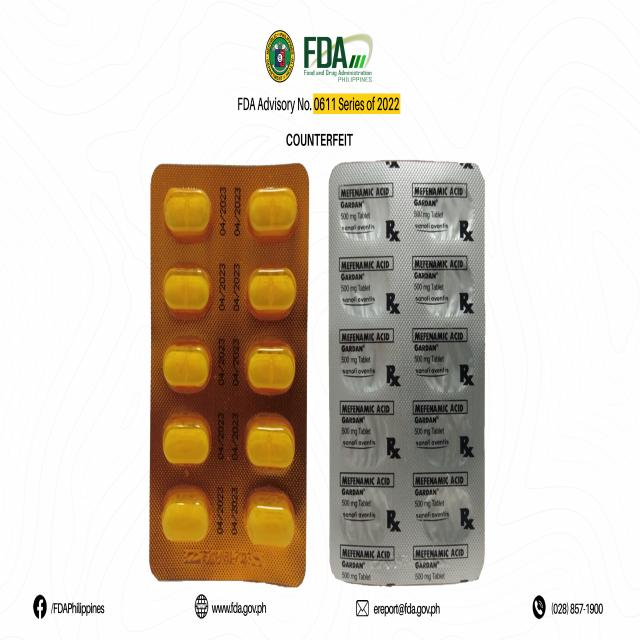counterfeit: (148, 162, 308, 584), (328, 153, 482, 582)
